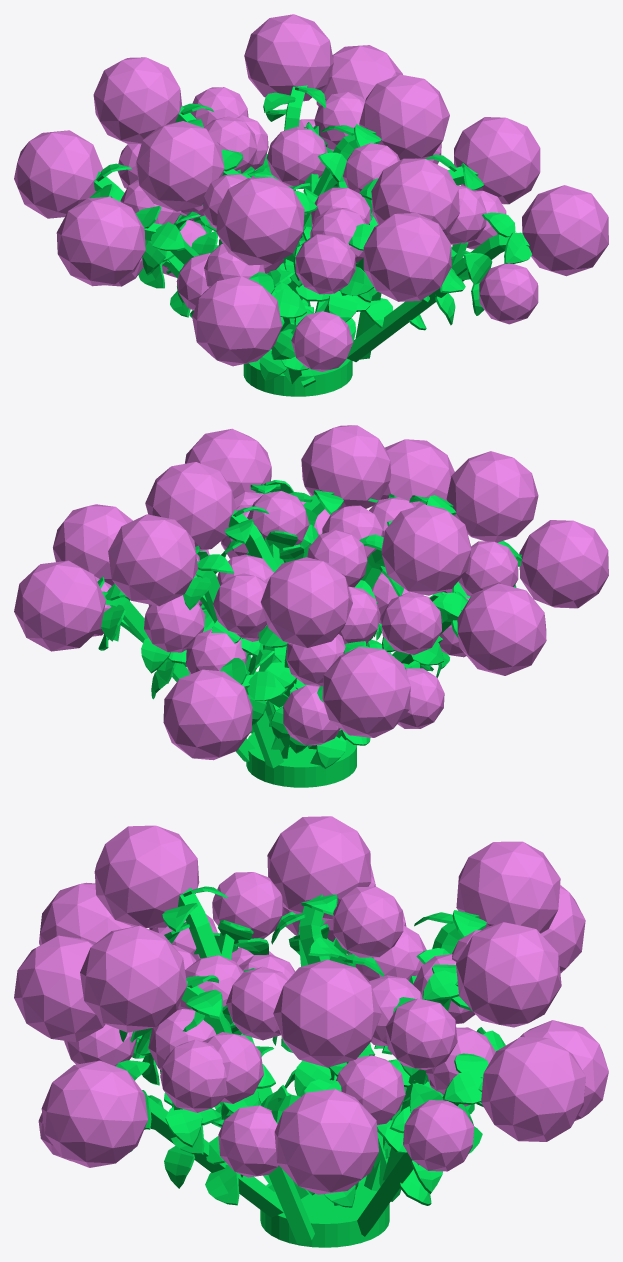
Rendered from HydrangeaPatch.fbx.
3 views of the same model, one above another, from view 1: azimuth 30°, elevation 25°; view 2: azimuth 150°, elevation 25°; view 3: azimuth 270°, elevation 25° (orthographic). The views are drawn at different scales.
Parts seen in each view (by area): view 1: Icosphere.013; view 2: Icosphere.013; view 3: Icosphere.013.
Part boxes in pixels (x1,y1,x2,y2): Icosphere.013: (14,14,608,396); Icosphere.013: (14,425,608,787); Icosphere.013: (14,816,608,1247).
Bounding box in the file's own units: 223 × 205 × 127.
